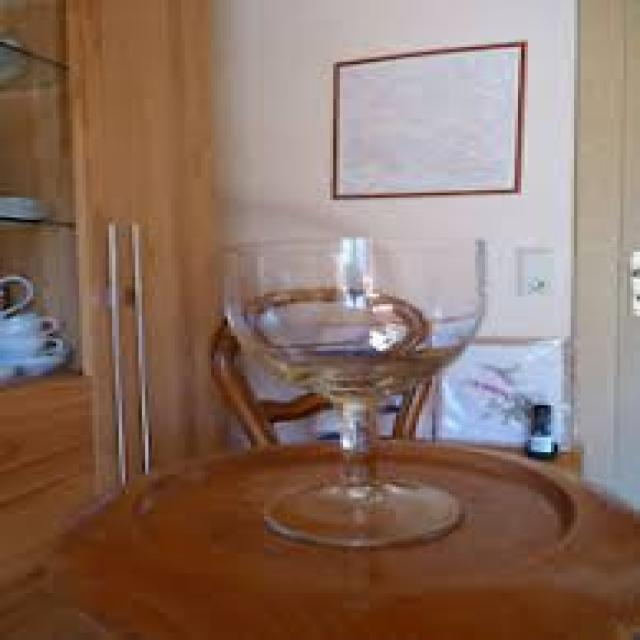glass: (218, 235, 478, 544), (524, 403, 551, 452)
